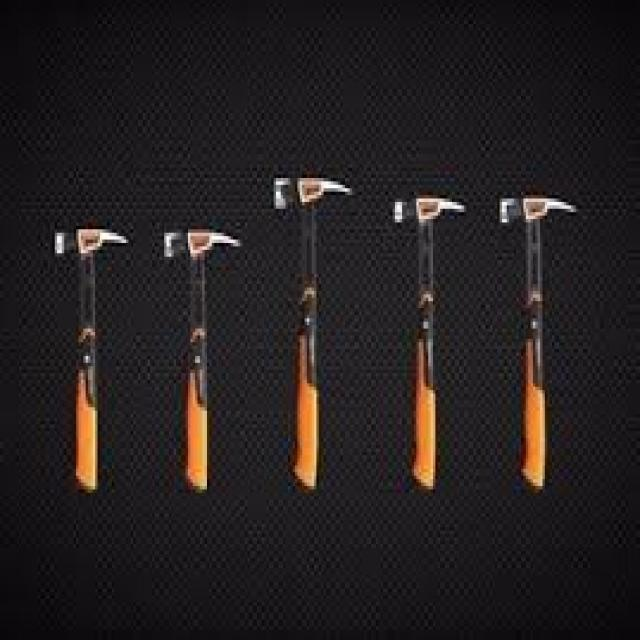hammer: (267, 165, 362, 500), (491, 179, 586, 506), (384, 183, 478, 502), (42, 210, 137, 506), (152, 219, 250, 501)
